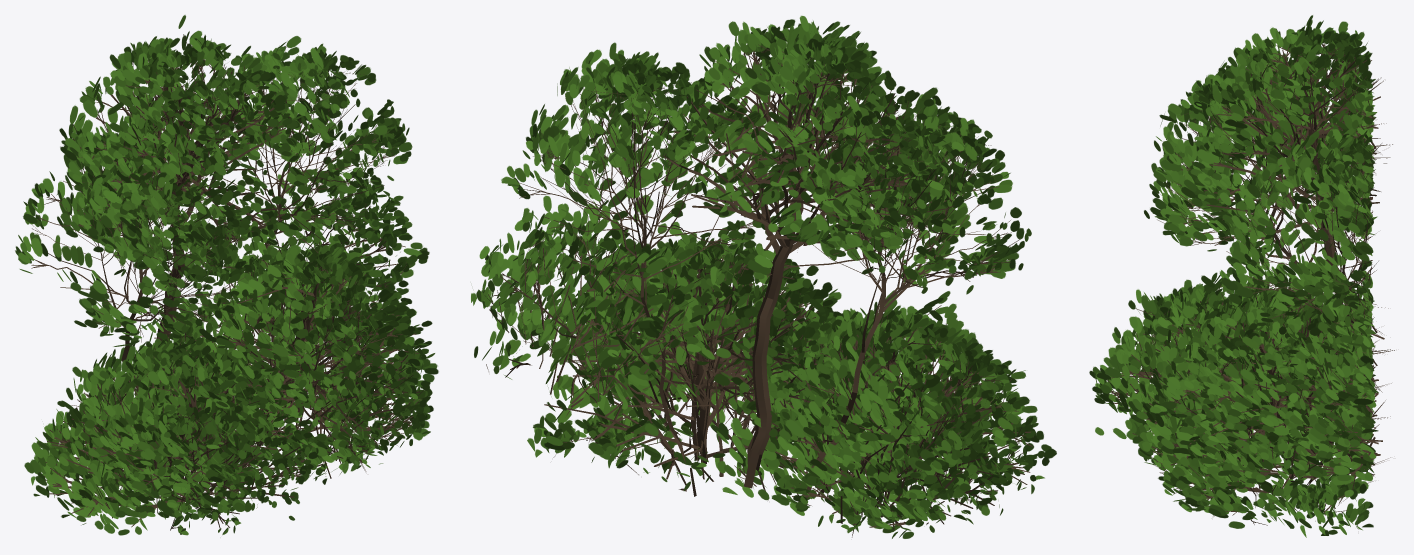
The picture shows the model from 3 angles, left to right: view 1: azimuth 30°, elevation 25°; view 2: azimuth 150°, elevation 25°; view 3: azimuth 270°, elevation 25°; orthographic projection. The views are drawn at different scales.
Visible parts, largest first — view 1: oak 01.001_trunk_Mat.001_0.294; view 2: oak 01.001_trunk_Mat.001_0.294; view 3: oak 01.001_trunk_Mat.001_0.294.
Boxes of the visible parts, x1=… form: oak 01.001_trunk_Mat.001_0.294: x1=15, y1=15, x2=438, y2=535; oak 01.001_trunk_Mat.001_0.294: x1=471, y1=15, x2=1056, y2=538; oak 01.001_trunk_Mat.001_0.294: x1=1089, y1=15, x2=1394, y2=537.
Size of the model in its own units: 5.19 by 5.03 by 3.25.
2 materials, 1 textured.
